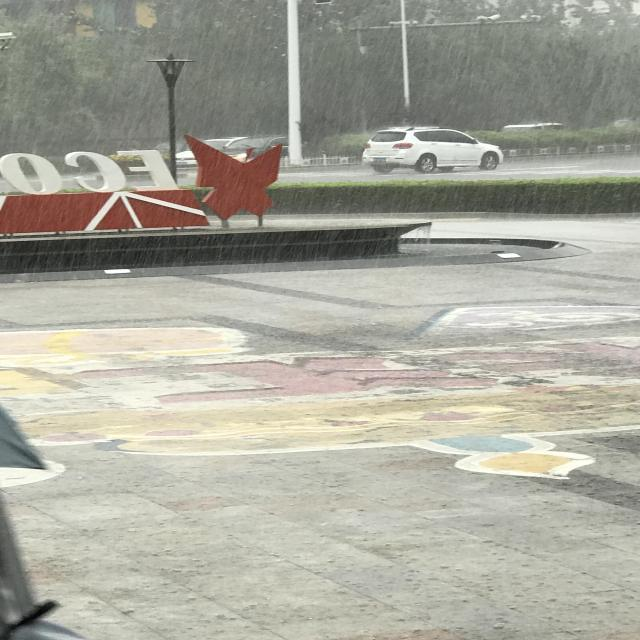car: (125, 130, 172, 282), (136, 316, 164, 428), (138, 414, 171, 474)
